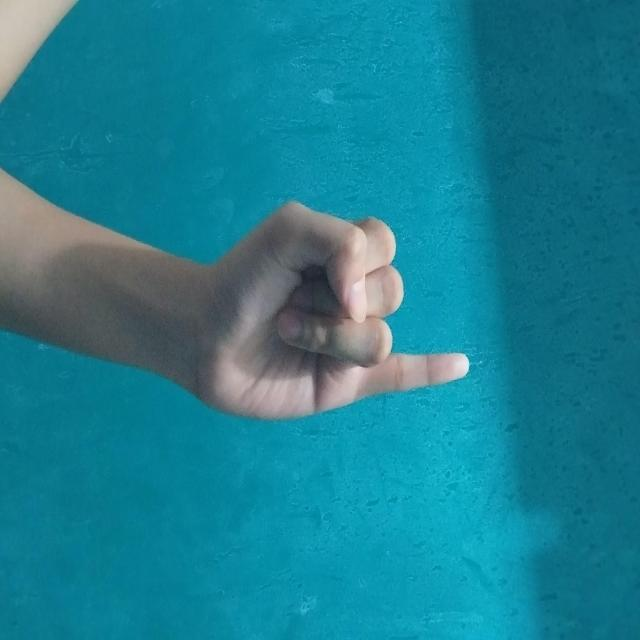I: (198, 166, 422, 438)
